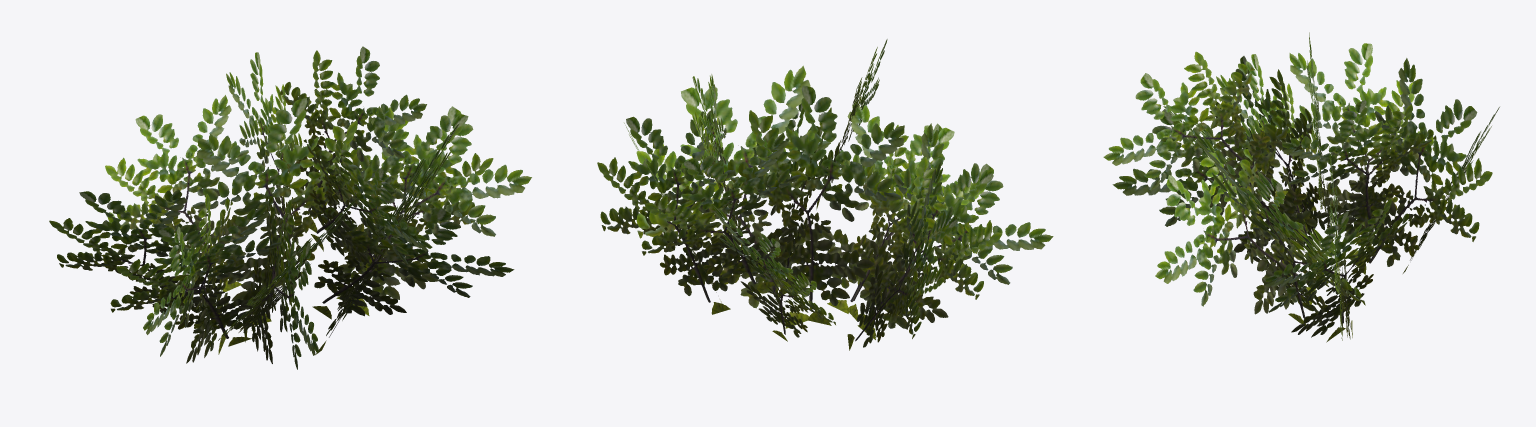
Rendered from bush_01.fbx.
The picture shows the model from 3 angles, left to right: view 1: azimuth 30°, elevation 25°; view 2: azimuth 150°, elevation 25°; view 3: azimuth 270°, elevation 25°; orthographic projection. The views are drawn at different scales.
Parts seen in each view (by area): view 1: bush_01; view 2: bush_01; view 3: bush_01.
Boxes of the visible parts, left/top/right/bottom form: bush_01: left=49, top=46, right=531, bottom=369; bush_01: left=597, top=39, right=1053, bottom=350; bush_01: left=1103, top=32, right=1499, bottom=342.
Size of the model in its own units: 553 by 365 by 451.
